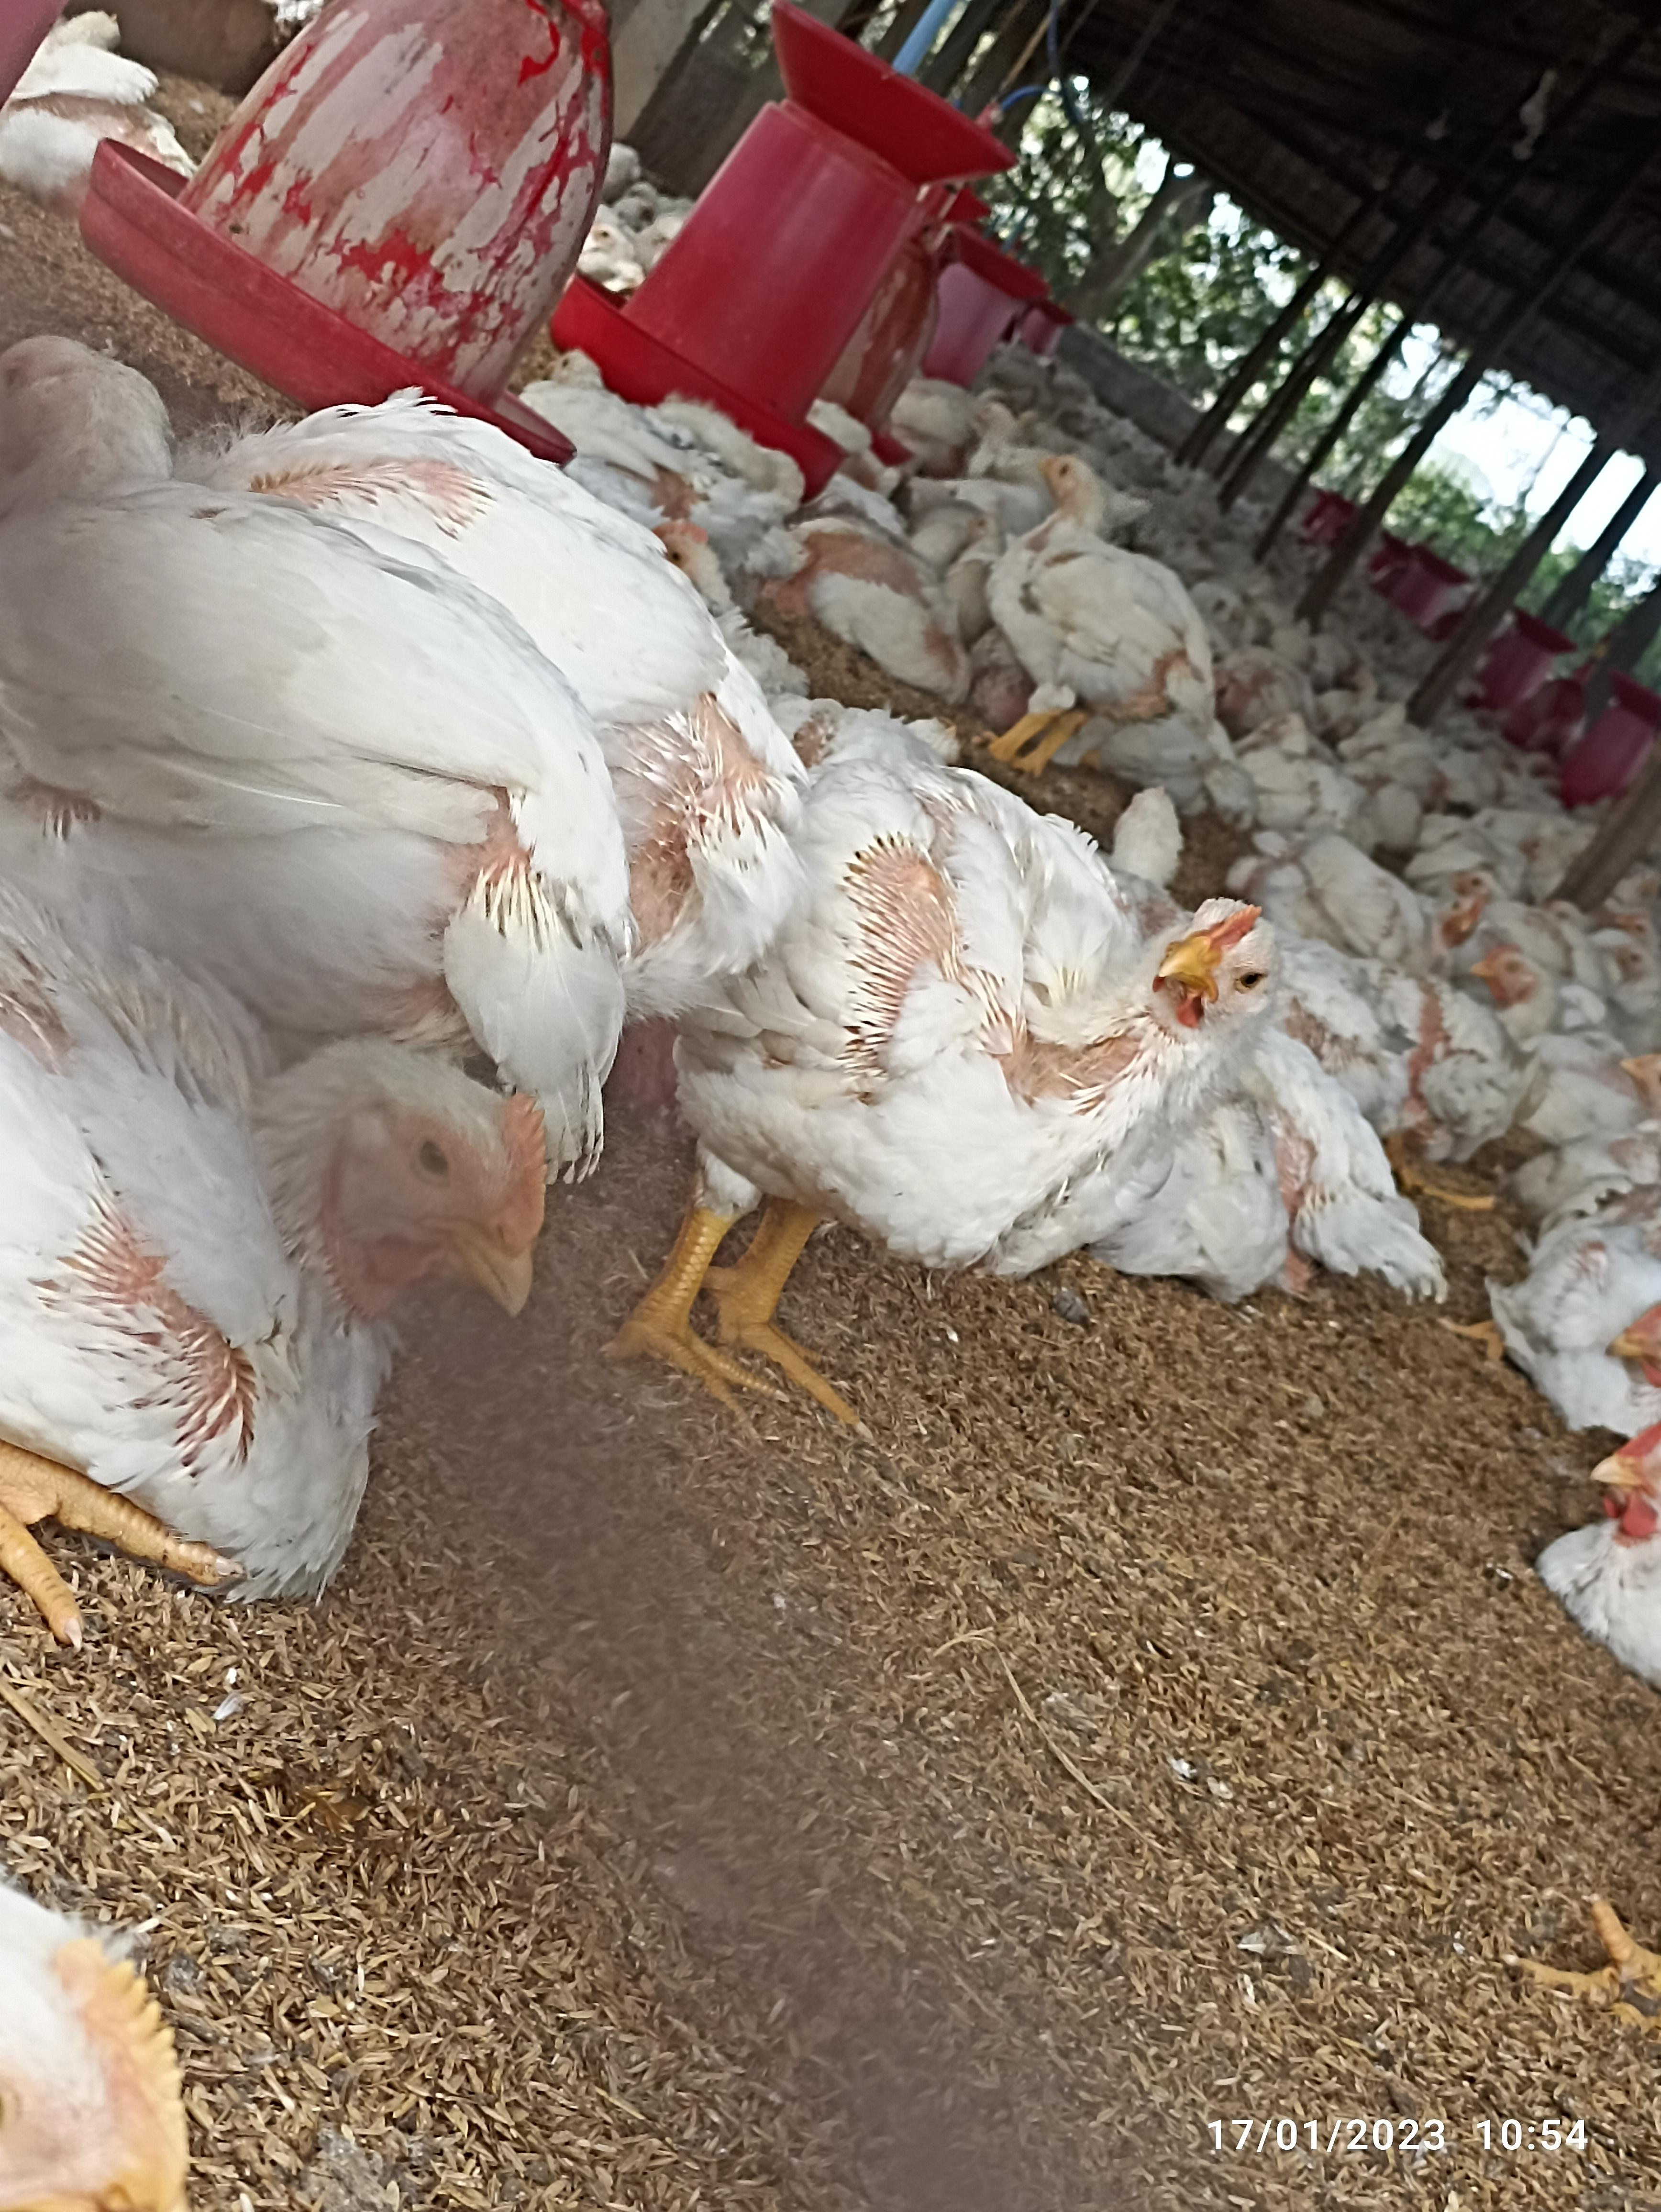Pollos: (9, 337, 626, 1026), (0, 1034, 569, 1598), (703, 759, 1293, 1291), (993, 452, 1216, 727), (529, 347, 768, 502), (1462, 944, 1628, 1157)
